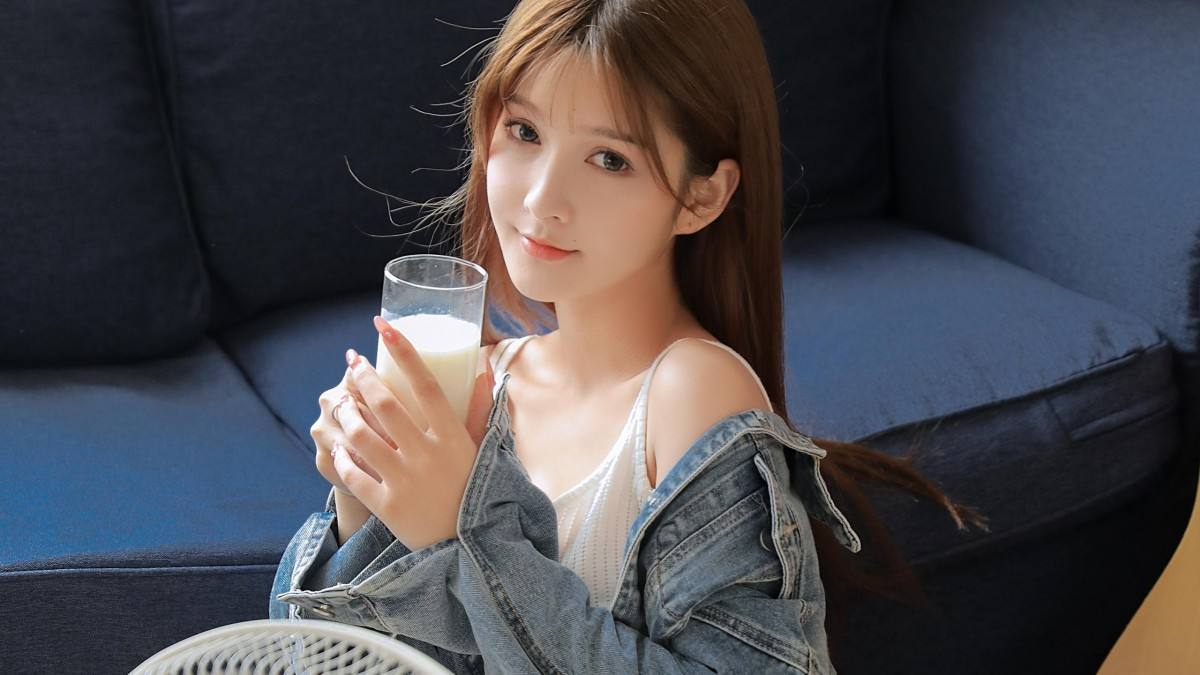person: (341, 21, 818, 675)
